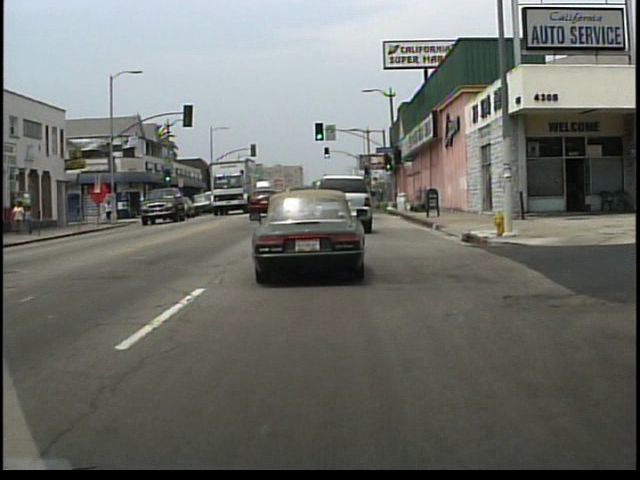person: (16, 201, 28, 233), (26, 205, 37, 235), (103, 200, 114, 224)
